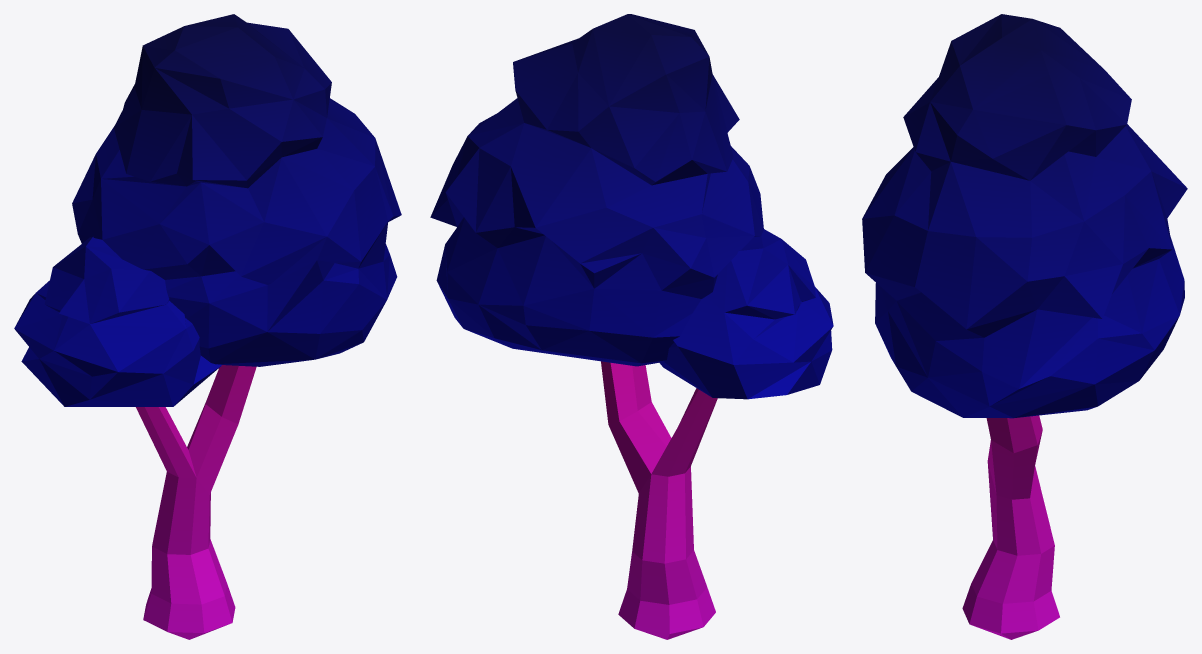
Rendered from SM_Tree_Round_04.gltf.
3 renders of one model, left to right at view 1: azimuth 30°, elevation 25°; view 2: azimuth 150°, elevation 25°; view 3: azimuth 270°, elevation 25°, orthographic. The views are drawn at different scales.
Visible parts, largest first — view 1: SM_Tree_Round_04; view 2: SM_Tree_Round_04; view 3: SM_Tree_Round_04.
Part boxes in pixels (left/top/right/bottom): SM_Tree_Round_04: left=14, top=14, right=401, bottom=639; SM_Tree_Round_04: left=430, top=14, right=833, bottom=639; SM_Tree_Round_04: left=862, top=14, right=1187, bottom=639.
Size of the model in its own units: 2.33 by 3.83 by 1.81.
